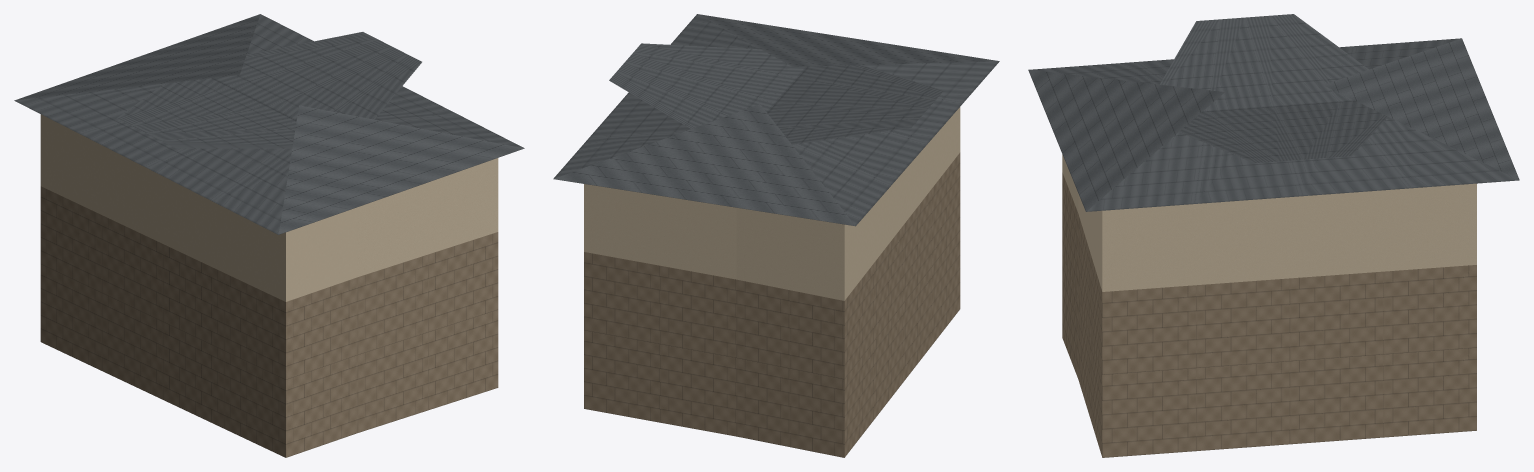
The model's file is bld_c8_12_493.gltf.
3 renders of one model, left to right at view 1: azimuth 30°, elevation 25°; view 2: azimuth 150°, elevation 25°; view 3: azimuth 270°, elevation 25°, orthographic. The views are drawn at different scales.
Visible parts, largest first — view 1: bld_c8_12_493; view 2: bld_c8_12_493; view 3: bld_c8_12_493.
Boxes of the visible parts, <box> form: bld_c8_12_493: <box>14,14,524,457</box>; bld_c8_12_493: <box>553,14,999,457</box>; bld_c8_12_493: <box>1028,14,1519,457</box>.
Bounding box in the file's own units: 10.19 × 8 × 12.19.
3 materials, 3 textured.
